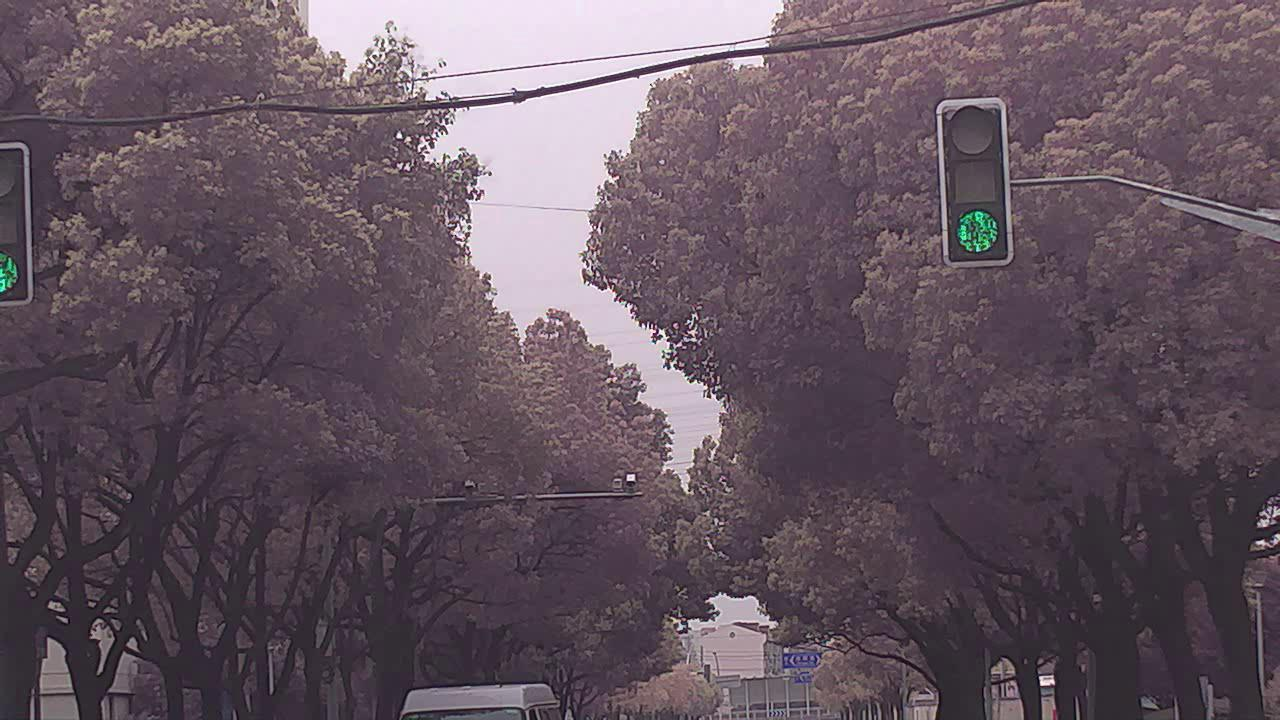traffic_light: (940, 101, 1009, 267), (3, 141, 35, 300)
